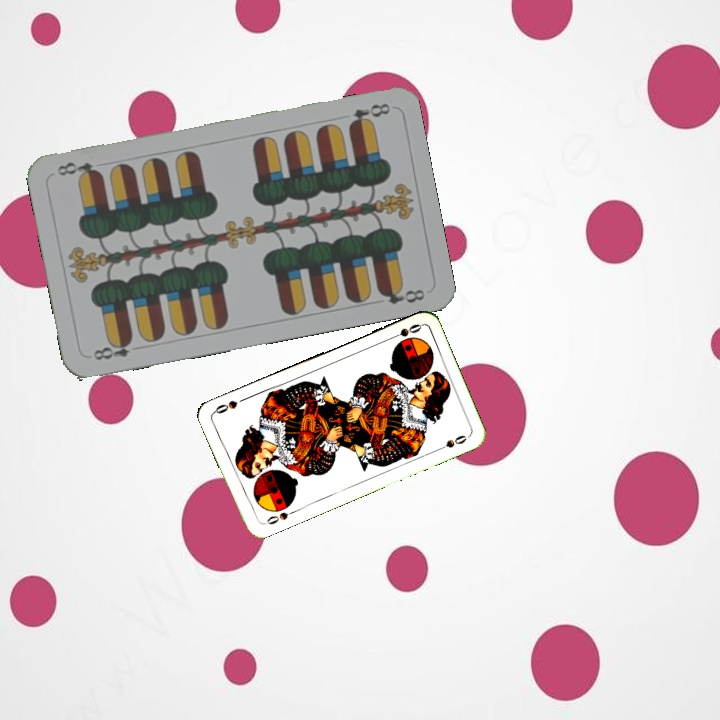E8: (89, 334, 145, 363), (344, 99, 393, 130)
SO: (385, 320, 424, 342), (262, 506, 298, 527)
